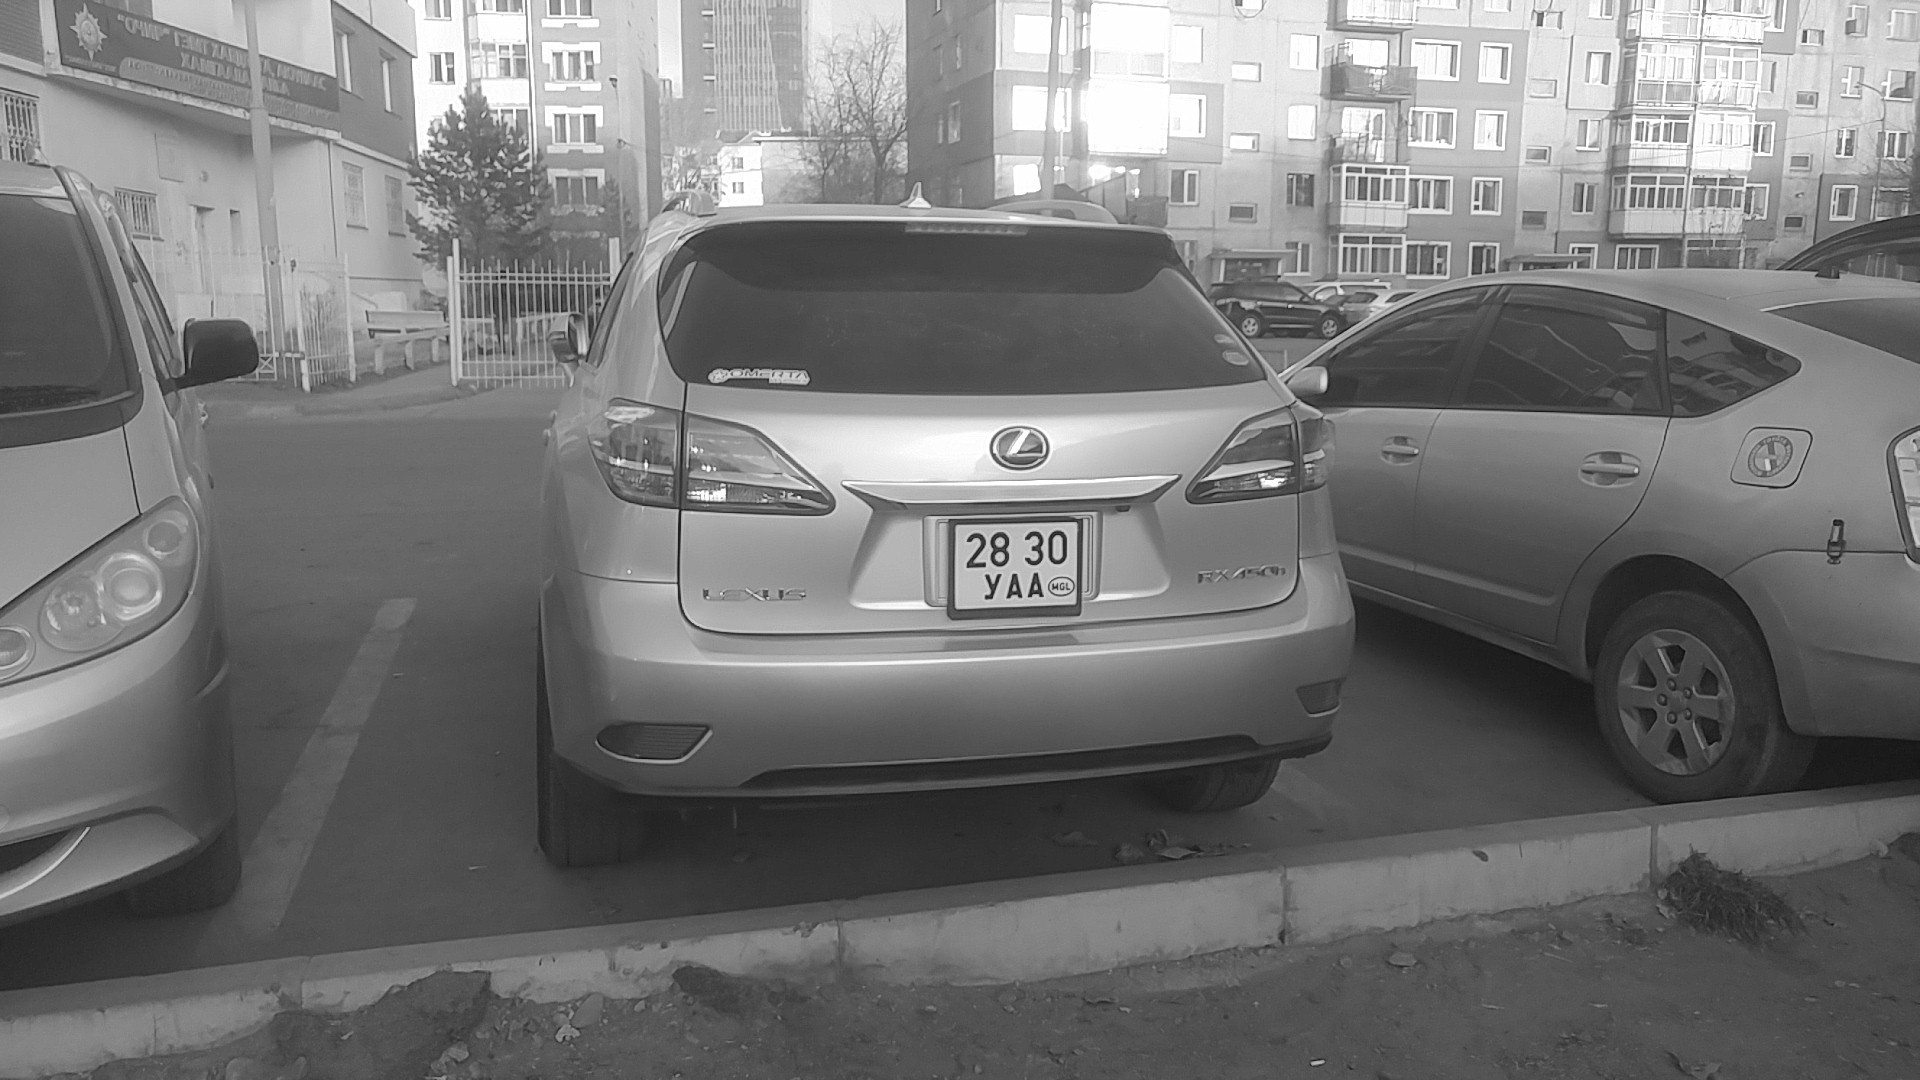0: (1047, 529, 1068, 563)
2: (964, 533, 988, 569)
3: (1023, 530, 1044, 567)
8: (991, 532, 1009, 567)
a: (1006, 572, 1024, 601), (1027, 571, 1045, 598)
plate: (943, 515, 1088, 620)
u: (983, 572, 1002, 600)
